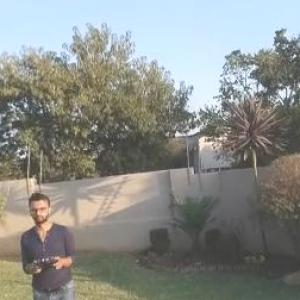follow: (8, 186, 75, 299)
